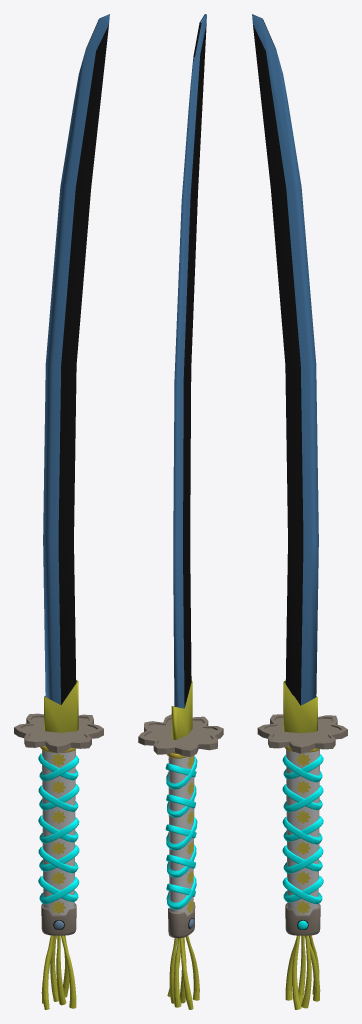
The picture shows the model from 3 angles, left to right: view 1: azimuth 90°, elevation 25°; view 2: azimuth 150°, elevation 25°; view 3: azimuth 270°, elevation 25°; orthographic projection.
Parts seen in each view (by area): view 1: Cube.200; view 2: Cube.200; view 3: Cube.200.
Boxes of the visible parts, bbox=[...] form: Cube.200: bbox=[14, 14, 109, 1009]; Cube.200: bbox=[138, 14, 223, 1009]; Cube.200: bbox=[252, 14, 347, 1009].
Bounding box in the file's own units: 38.94 × 479 × 42.04.
